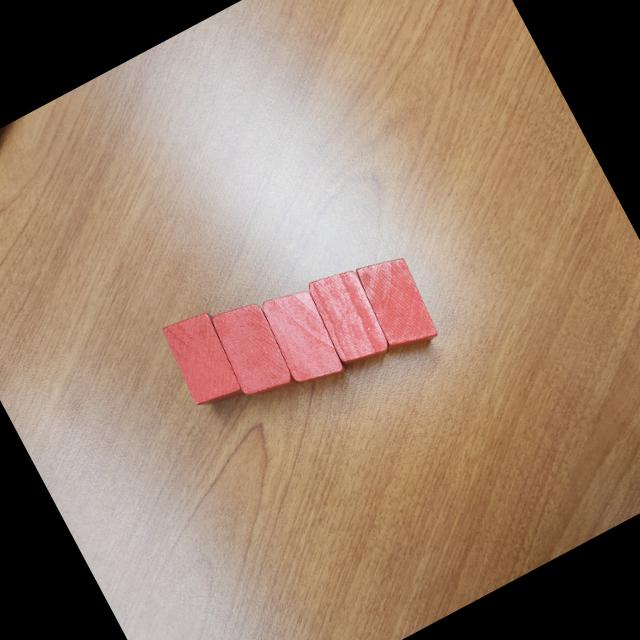red: (156, 303, 252, 415), (210, 305, 297, 396), (356, 258, 437, 349), (263, 290, 342, 383), (309, 270, 386, 363)
